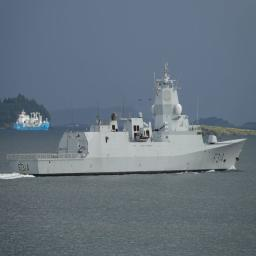Fragata: (8, 57, 250, 178)
